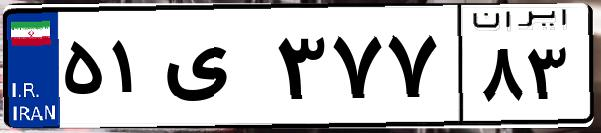1: (110, 28, 158, 98)
3: (270, 28, 330, 110), (525, 38, 570, 115)
5: (57, 26, 110, 100)
7: (385, 28, 445, 110), (330, 28, 385, 110)
8: (475, 38, 525, 113)
ی: (158, 20, 270, 120)
